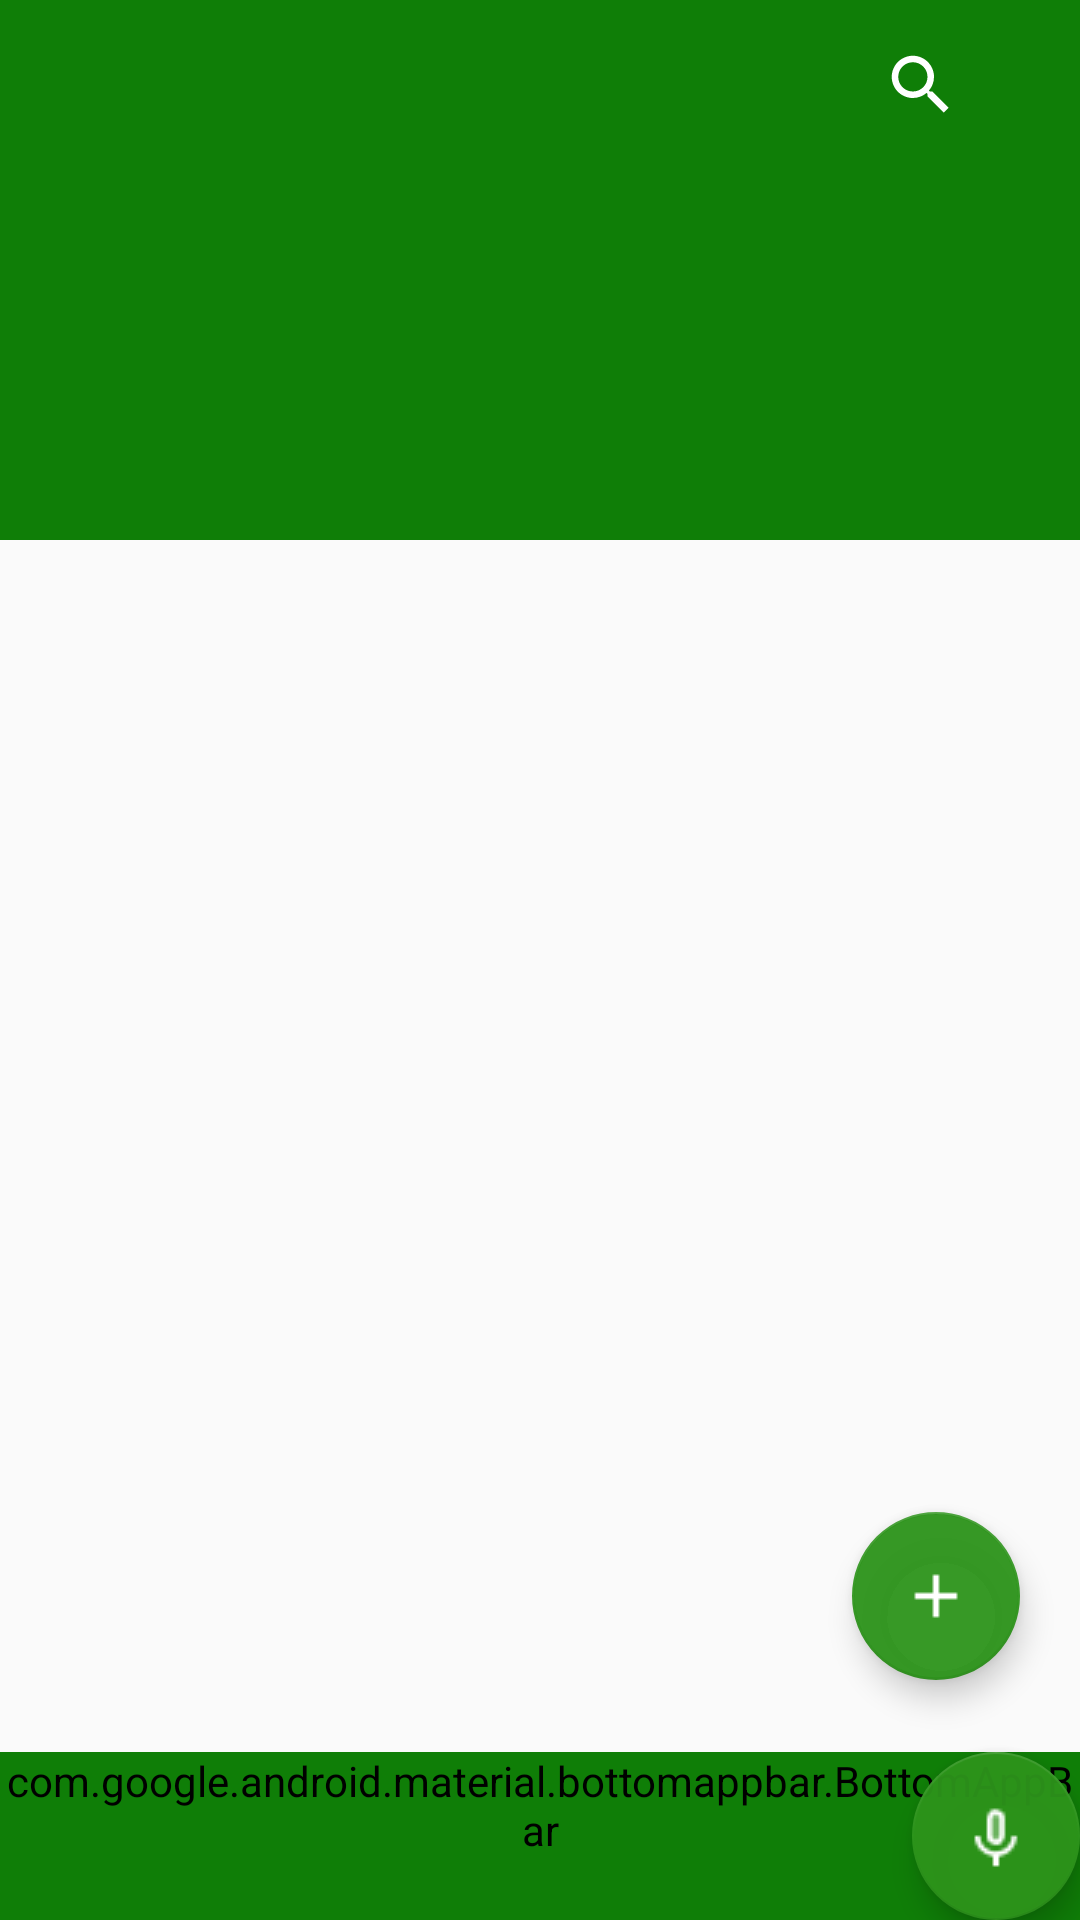

Where icons sit on this 1080px x 1920px app screen, as [x1=x1, y1=y1, x2=x2, y2=y2]:
microphone: [x1=912, y1=1752, x2=1080, y2=1920]
plus: [x1=852, y1=1512, x2=1020, y2=1680]
